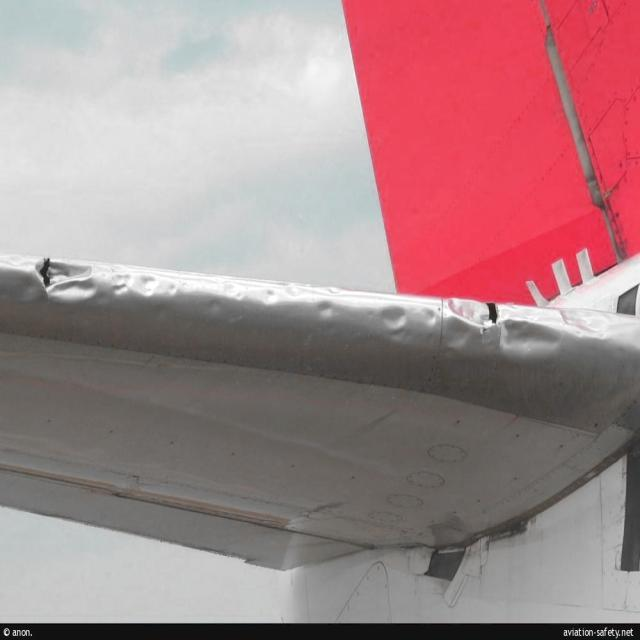dent: (32, 258, 608, 366)
